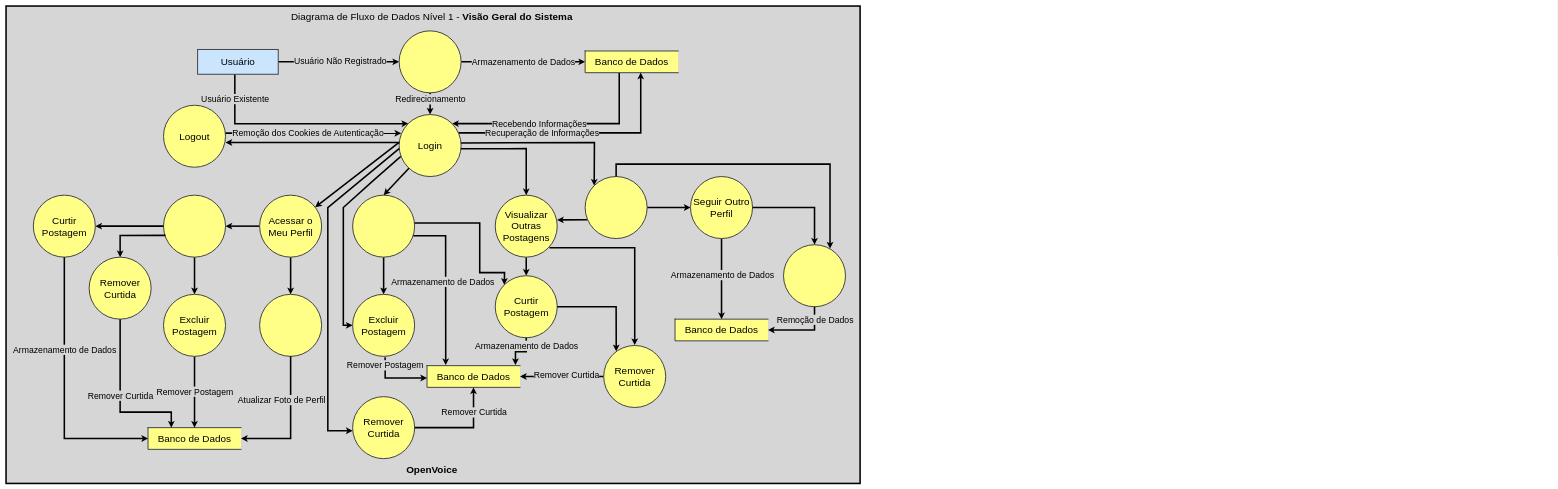
This 1558x489 diagram has some shape labels left out. Here are the shapes that lost their labels. From the top down, the box of each, then its label:
(399, 30, 461, 93): Registro
(163, 195, 226, 257): Acessar as Próprias Postagens
(352, 195, 415, 257): Criar Postagem
(585, 176, 647, 239): Acessar Outro Perfil
(783, 244, 846, 307): Deixar de Seguir
(259, 294, 322, 357): Alterar Foto de Perfil
